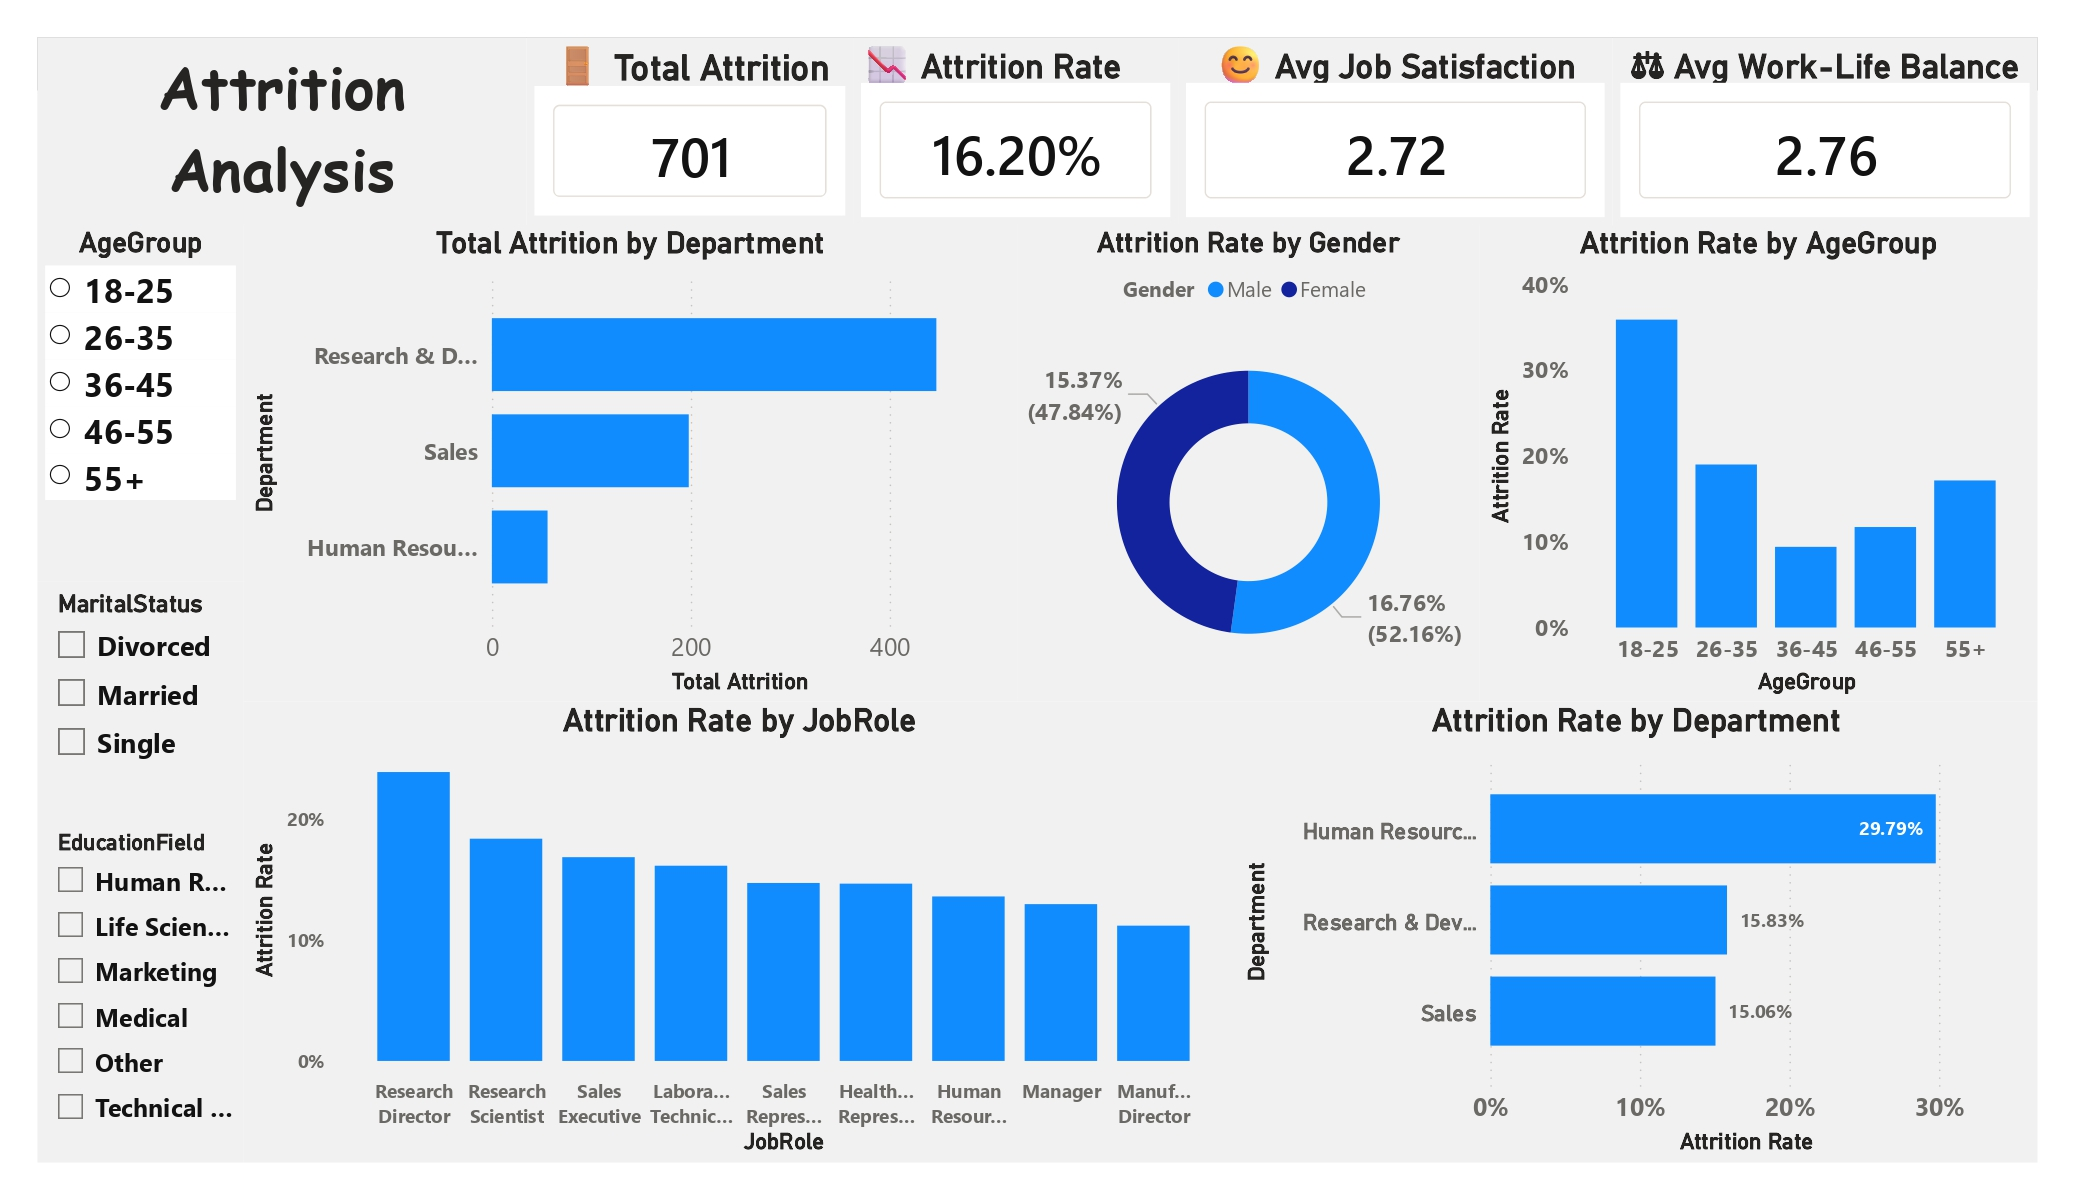

Layout of this report page (visuals, bound fields, positions):
{"tool":"powerbi","page":{"name":"Attrition Analysis","canvas":[1280,720],"ordinal":1},"visuals":[{"type":"cardVisual","title":"🚪 Total Attrition","fields":{"Data":["HR_Analytics_Cleaned.Total Attrition"]},"box":[313.3,0,208.3,120],"z":0},{"type":"textbox","box":[0,0,313.3,120],"z":1000},{"type":"cardVisual","title":"⚖ Avg Work-Life Balance","fields":{"Data":["HR_Analytics_Cleaned.Average WorkLife Balance"]},"box":[1008.3,0,271.7,120],"z":2000},{"type":"cardVisual","title":"📉 Attrition Rate","fields":{"Data":["HR_Analytics_Cleaned.Attrition Rate"]},"box":[521.7,0,208.3,120],"z":3000},{"type":"cardVisual","title":"😊 Avg Job Satisfaction","fields":{"Data":["HR_Analytics_Cleaned.Average Job Satisfaction"]},"box":[730,0,278.3,120],"z":4000},{"type":"clusteredBarChart","fields":{"Category":["HR_Analytics_Cleaned.Department"],"Y":["HR_Analytics_Cleaned.Total Attrition"]},"box":[131.7,120,495,305],"z":5000},{"type":"clusteredColumnChart","fields":{"Category":["HR_Analytics_Cleaned.JobRole"],"Y":["HR_Analytics_Cleaned.Attrition Rate"]},"box":[131.7,425,635,295],"z":6000},{"type":"clusteredColumnChart","fields":{"Y":["HR_Analytics_Cleaned.Attrition Rate"],"Category":["HR_Analytics_Cleaned.AgeGroup"]},"box":[923.3,120,356.7,305],"z":7000},{"type":"donutChart","fields":{"Category":["HR_Analytics_Cleaned.Gender"],"Y":["HR_Analytics_Cleaned.Attrition Rate"]},"box":[626.7,120,296.7,305],"z":8000},{"type":"listSlicer","fields":{"Values":["HR_Analytics_Cleaned.AgeGroup"]},"box":[0,120,131.7,228.3],"z":9000},{"type":"slicer","fields":{"Values":["HR_Analytics_Cleaned.MaritalStatus"]},"box":[0,348.3,131.7,153.3],"z":10000},{"type":"slicer","fields":{"Values":["HR_Analytics_Cleaned.EducationField"]},"box":[0,501.7,131.7,218.3],"z":11000},{"type":"clusteredBarChart","fields":{"Category":["HR_Analytics_Cleaned.Department"],"Y":["HR_Analytics_Cleaned.Attrition Rate"]},"box":[766.7,425,513.3,295],"z":12000}]}

Visuals, with their boxes on the page's 1280x720 design canvas (x1, y1, x2, y2). These are canvas units, not pixel positions in the 2075x1200 screenshot, which may show the page scaled, cropped or inside an application window:
"🚪 Total Attrition" cardVisual: 313, 0, 522, 120
textbox: 0, 0, 313, 120
"⚖ Avg Work-Life Balance" cardVisual: 1008, 0, 1280, 120
"📉 Attrition Rate" cardVisual: 522, 0, 730, 120
"😊 Avg Job Satisfaction" cardVisual: 730, 0, 1008, 120
clusteredBarChart - HR_Analytics_Cleaned.Department x HR_Analytics_Cleaned.Total Attrition: 132, 120, 627, 425
clusteredColumnChart - HR_Analytics_Cleaned.JobRole x HR_Analytics_Cleaned.Attrition Rate: 132, 425, 767, 720
clusteredColumnChart - HR_Analytics_Cleaned.Attrition Rate x HR_Analytics_Cleaned.AgeGroup: 923, 120, 1280, 425
donutChart - HR_Analytics_Cleaned.Gender x HR_Analytics_Cleaned.Attrition Rate: 627, 120, 923, 425
listSlicer - HR_Analytics_Cleaned.AgeGroup: 0, 120, 132, 348
slicer - HR_Analytics_Cleaned.MaritalStatus: 0, 348, 132, 502
slicer - HR_Analytics_Cleaned.EducationField: 0, 502, 132, 720
clusteredBarChart - HR_Analytics_Cleaned.Department x HR_Analytics_Cleaned.Attrition Rate: 767, 425, 1280, 720
